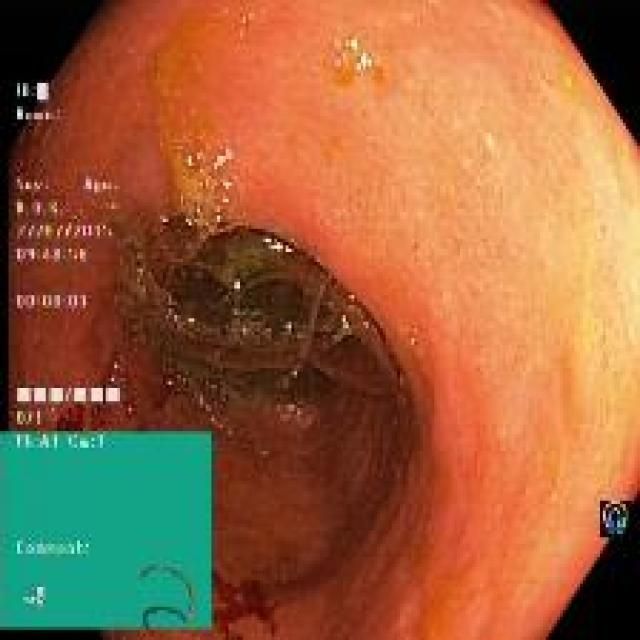ulcerative-colitis-grade-1: (12, 3, 640, 638)
